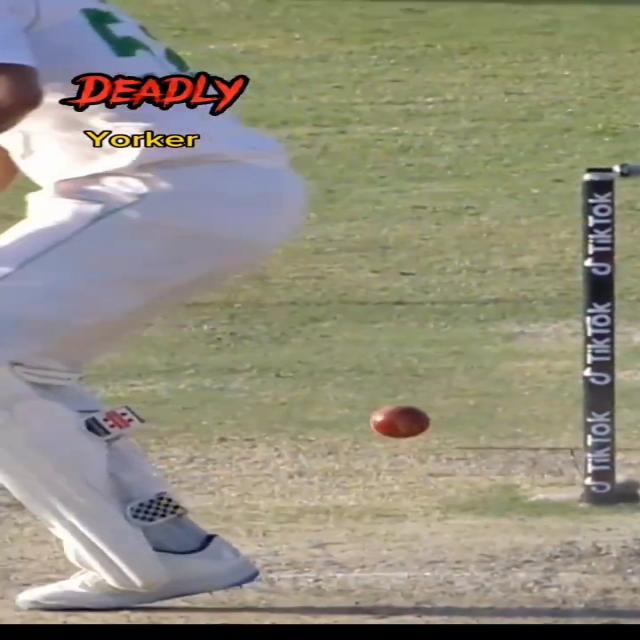Cricket ball: (366, 403, 434, 440)
